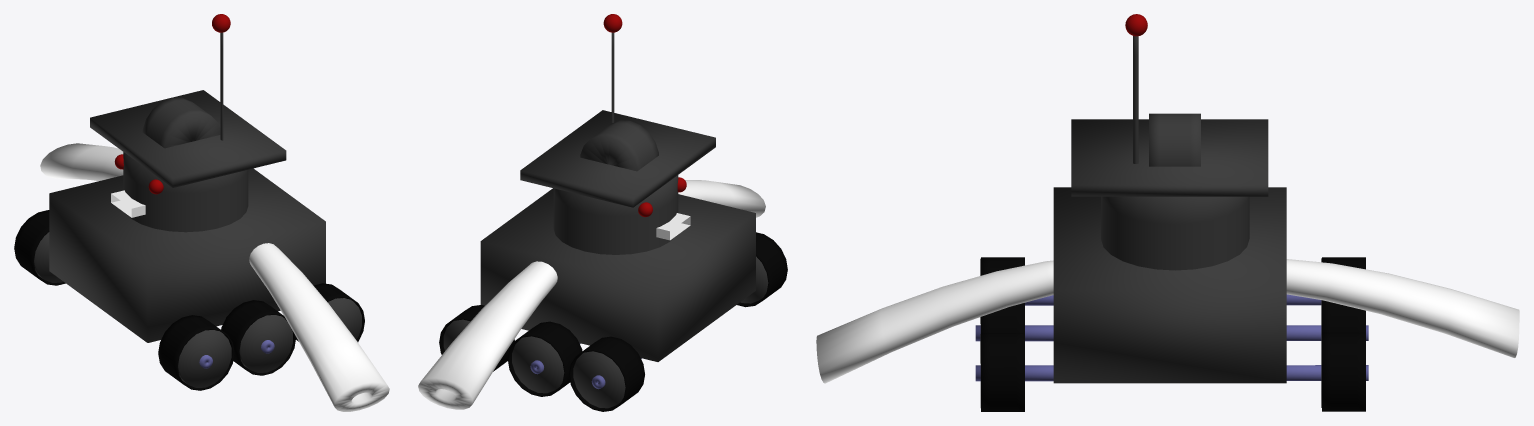
Rendered from robot.obj.
3 views of the same model, side by side, from view 1: azimuth 30°, elevation 25°; view 2: azimuth 150°, elevation 25°; view 3: azimuth 270°, elevation 25° (orthographic). The views are drawn at different scales.
Parts seen in each view (by area): view 1: Box001, Tube002, Box002, Cone001, Tube001, Tube003, Cylinder006, Cylinder004, Tube012, Tube009, Tube010, Cylinder001 (+4 smaller); view 2: Box001, Box002, Tube003, Cone001, Tube001, Cylinder003, Cylinder005, Tube010, Tube007, Tube002, Tube012, Box003 (+4 smaller); view 3: Box001, Box002, Tube002, Tube003, Cone001, Tube006, Tube004, Tube001, Tube007, Tube005, Tube008, Tube009 (+1 smaller).
Part boxes in pixels (<box>): Box001: <box>49,168,325,342</box>; Tube002: <box>249,243,389,411</box>; Box002: <box>90,90,286,187</box>; Cone001: <box>123,152,248,232</box>; Tube001: <box>142,97,220,148</box>; Tube003: <box>40,143,123,180</box>; Cylinder006: <box>178,330,231,387</box>; Cylinder004: <box>239,315,292,372</box>; Tube012: <box>158,315,234,390</box>; Tube009: <box>221,300,296,375</box>; Tube010: <box>14,210,65,285</box>; Cylinder001: <box>327,298,361,339</box>; Box001: <box>480,188,755,361</box>; Box002: <box>520,110,715,207</box>; Tube003: <box>418,261,557,409</box>; Cone001: <box>553,175,678,254</box>; Tube001: <box>580,120,658,171</box>; Cylinder003: <box>512,336,564,393</box>; Cylinder005: <box>573,351,625,408</box>; Tube010: <box>569,336,644,411</box>; Tube007: <box>507,321,582,396</box>; Tube002: <box>678,180,765,217</box>; Tube012: <box>737,232,787,307</box>; Box003: <box>656,213,690,240</box>; Box001: <box>1053,187,1286,383</box>; Box002: <box>1071,119,1268,196</box>; Tube002: <box>816,260,1053,383</box>; Tube003: <box>1286,259,1519,357</box>; Cone001: <box>1101,196,1249,270</box>; Tube006: <box>1322,332,1365,411</box>; Tube004: <box>981,333,1024,411</box>; Tube001: <box>1149,113,1200,166</box>; Tube007: <box>1322,300,1365,332</box>; Tube005: <box>975,365,1368,381</box>; Tube008: <box>975,325,1368,341</box>; Tube009: <box>981,303,1024,332</box>.
Bounding box in the file's own units: 42.81 × 66.54 × 116.
